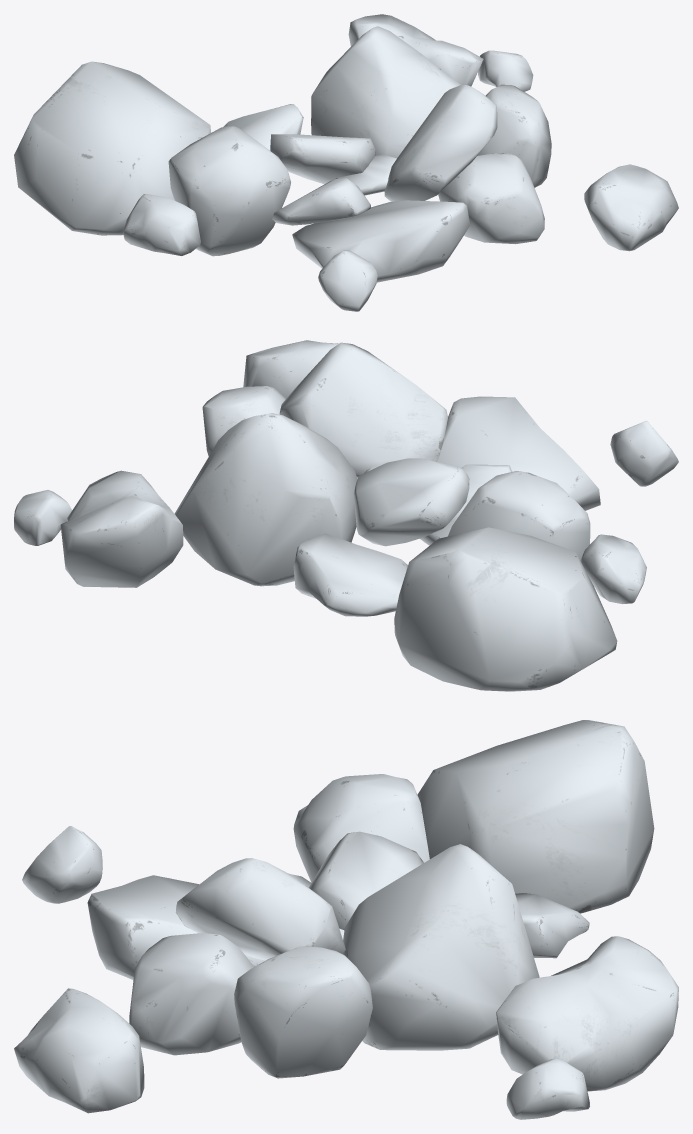
The model's file is Ice_Chunks_Scatter_Composite_002.fbx.
The picture shows the model from 3 angles, top to bottom: view 1: azimuth 30°, elevation 25°; view 2: azimuth 150°, elevation 25°; view 3: azimuth 270°, elevation 25°; orthographic projection. The views are drawn at different scales.
Parts seen in each view (by area): view 1: Ice_Chunks_Scatter_Composite_002_LOD0; view 2: Ice_Chunks_Scatter_Composite_002_LOD0; view 3: Ice_Chunks_Scatter_Composite_002_LOD0.
Part boxes in pixels (left/top/right/bottom): Ice_Chunks_Scatter_Composite_002_LOD0: left=14, top=14, right=678, bottom=311; Ice_Chunks_Scatter_Composite_002_LOD0: left=14, top=340, right=678, bottom=691; Ice_Chunks_Scatter_Composite_002_LOD0: left=14, top=720, right=678, bottom=1119.
Size of what is drawn, in the model's own units: 5.93 by 1.66 by 5.17.
Materials: 1 (1 with a texture image).
